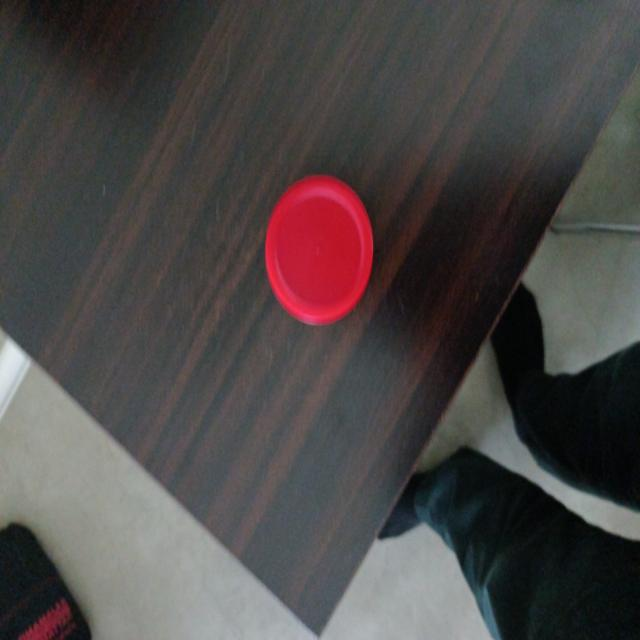chip: (262, 171, 376, 329)
